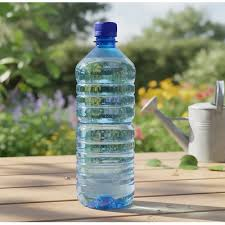Botella: (75, 24, 135, 208)
